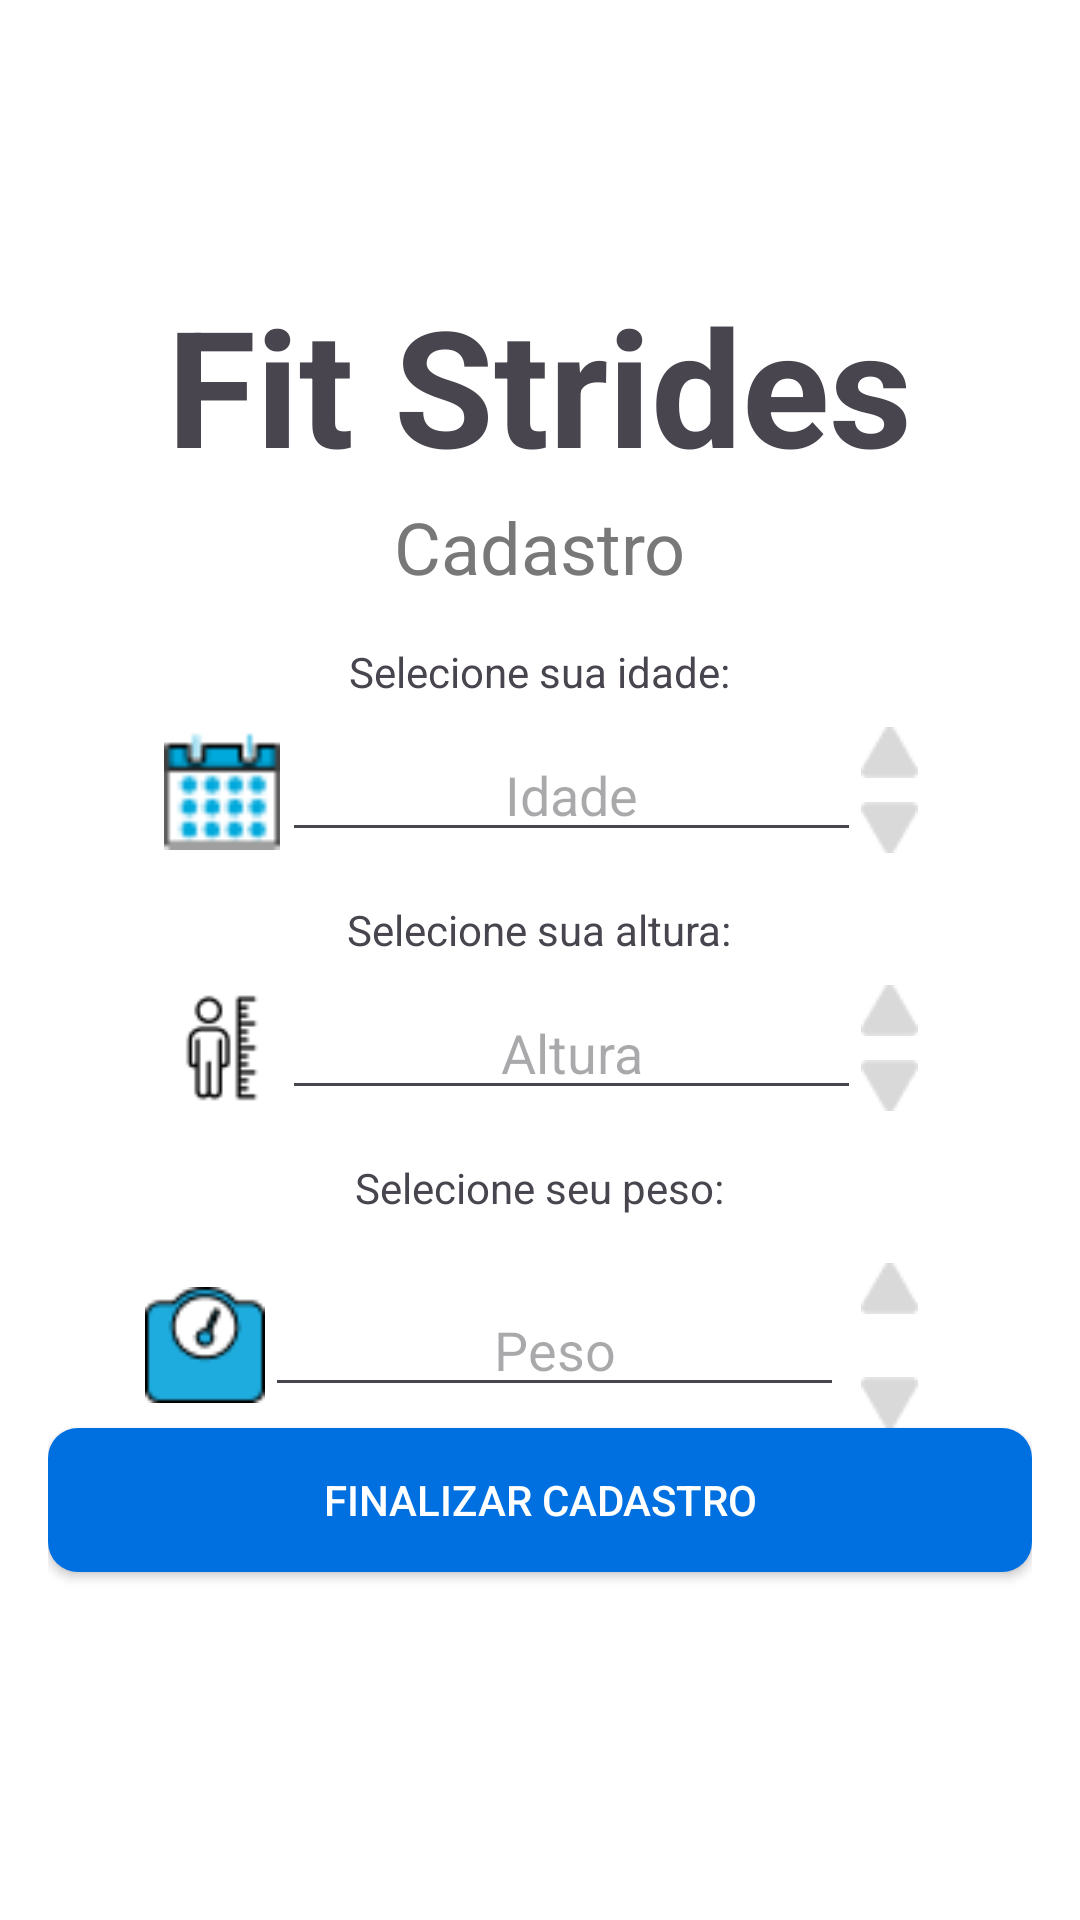

Icons on this 1080x1920 Android screen, each with its box as (x1, y1, x2, y2):
balanca: (145, 1287, 265, 1403)
calendario: (164, 733, 280, 850)
cima: (861, 727, 918, 778), (861, 985, 918, 1036), (861, 1263, 918, 1314)
